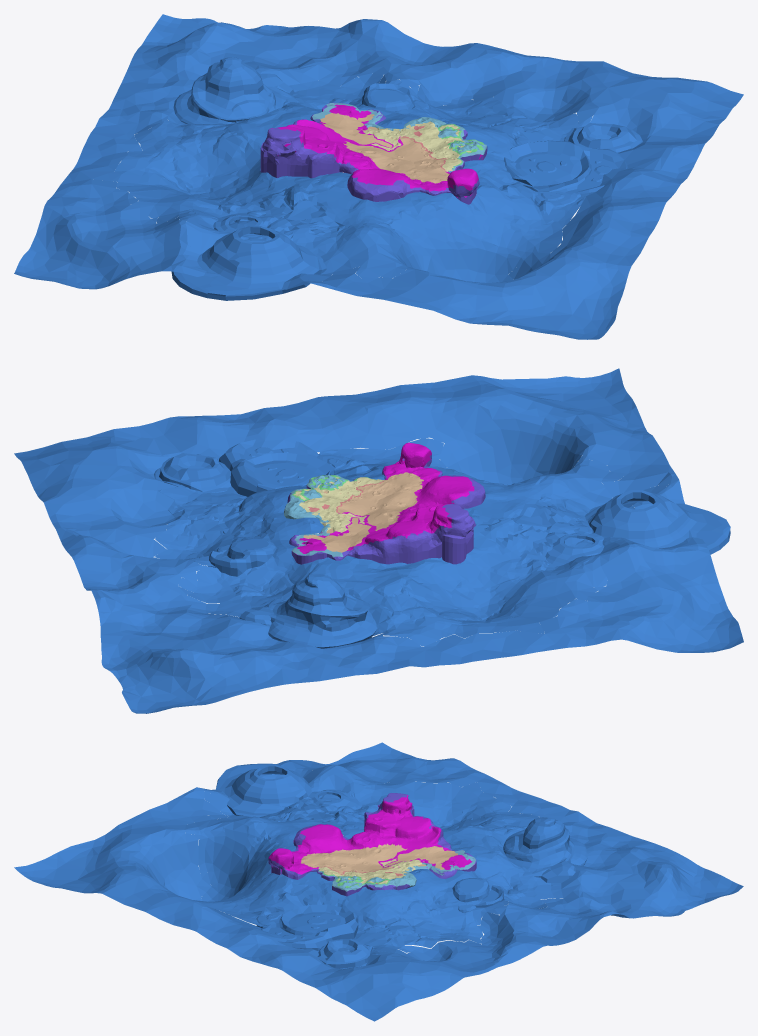
The model's file is Terrain_obtimy_sansMat.fbx.
3 views of the same model, one above another, from view 1: azimuth 30°, elevation 25°; view 2: azimuth 150°, elevation 25°; view 3: azimuth 270°, elevation 25° (orthographic). The views are drawn at different scales.
Visible parts, largest first — view 1: Plane.003, Circle.004, Circle.054, Circle.055, Circle.051, Circle.053, Circle.052; view 2: Plane.003, Circle.004, Circle.054, Circle.055, Circle.051, Circle.053, Circle.052; view 3: Plane.003, Circle.004, Circle.054, Circle.055, Circle.051, Circle.053, Circle.052.
Part boxes in pixels (x1,y1,x2,y2): Plane.003: (14,14,743,339); Circle.004: (260,102,487,204); Circle.054: (171,213,326,300); Circle.055: (173,57,299,124); Circle.051: (503,140,627,207); Circle.053: (559,122,642,152); Circle.052: (362,83,430,111); Plane.003: (14,368,743,713); Circle.004: (284,442,485,564); Circle.054: (545,490,730,565); Circle.055: (239,574,377,648); Circle.051: (219,439,353,496); Circle.053: (154,453,231,514); Circle.052: (208,538,276,576); Plane.003: (14,742,743,1021); Circle.004: (268,793,476,896); Circle.054: (216,763,362,817); Circle.055: (503,817,587,882); Circle.051: (256,904,358,950); Circle.053: (317,938,395,969); Circle.052: (452,878,504,912).
Bounding box in the file's own units: 119506 × 16852 × 129916.
